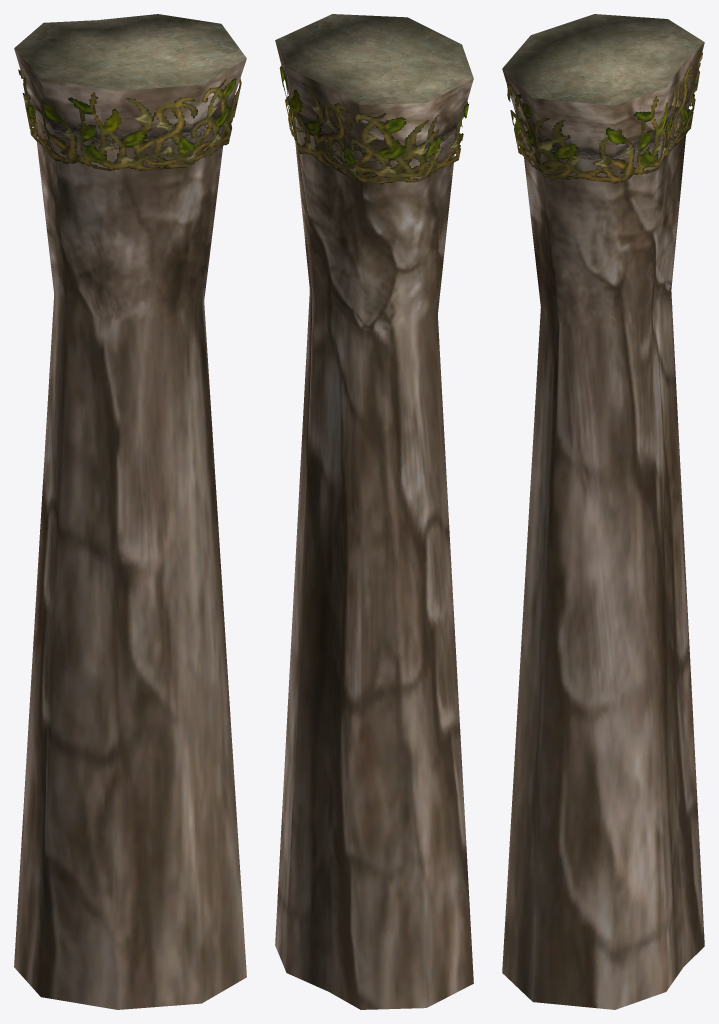
Rendered from INST_OH_PONDPILLARB.obj.
3 renders of one model, left to right at view 1: azimuth 30°, elevation 25°; view 2: azimuth 150°, elevation 25°; view 3: azimuth 270°, elevation 25°, orthographic.
Visible parts, largest first — view 1: st_Pond_PillarB; view 2: st_Pond_PillarB; view 3: st_Pond_PillarB.
Part boxes in pixels (x1,y1,x2,y2): st_Pond_PillarB: (14,14,246,1009); st_Pond_PillarB: (275,14,473,1009); st_Pond_PillarB: (502,14,704,1009).
Size of the model in its own units: 116 by 533 by 108.
